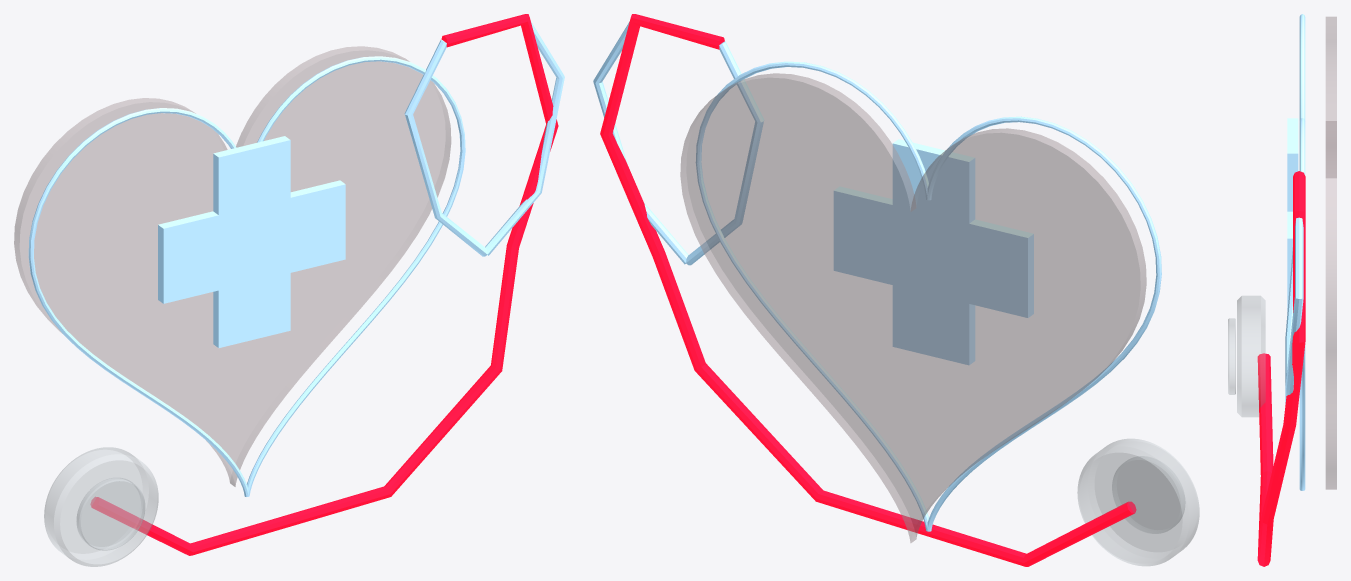
Rendered from 47-healthcare.glb.
3 renders of one model, left to right at view 1: azimuth 30°, elevation 25°; view 2: azimuth 150°, elevation 25°; view 3: azimuth 270°, elevation 25°, orthographic. The views are drawn at different scales.
Visible parts, largest first — view 1: BC subtle ruby technical glass, BC cool glass edge, BC ruby signal edge, BC thin clear technical glass; view 2: BC subtle ruby technical glass, BC cool glass edge, BC ruby signal edge, BC thin clear technical glass; view 3: BC ruby signal edge, BC subtle ruby technical glass, BC cool glass edge, BC thin clear technical glass.
Part boxes in pixels (<box>): BC subtle ruby technical glass: <box>14,46,451,486</box>; BC cool glass edge: <box>28,21,564,496</box>; BC ruby signal edge: <box>90,14,558,555</box>; BC thin clear technical glass: <box>44,447,158,566</box>; BC subtle ruby technical glass: <box>680,73,1146,542</box>; BC cool glass edge: <box>593,22,1161,531</box>; BC ruby signal edge: <box>600,14,1136,566</box>; BC thin clear technical glass: <box>1077,438,1199,566</box>; BC ruby signal edge: <box>1257,171,1305,566</box>; BC subtle ruby technical glass: <box>1325,16,1336,489</box>; BC cool glass edge: <box>1285,14,1305,490</box>; BC thin clear technical glass: <box>1228,295,1265,417</box>.
Size of the model in its own units: 1.95 by 1.53 by 0.34.
